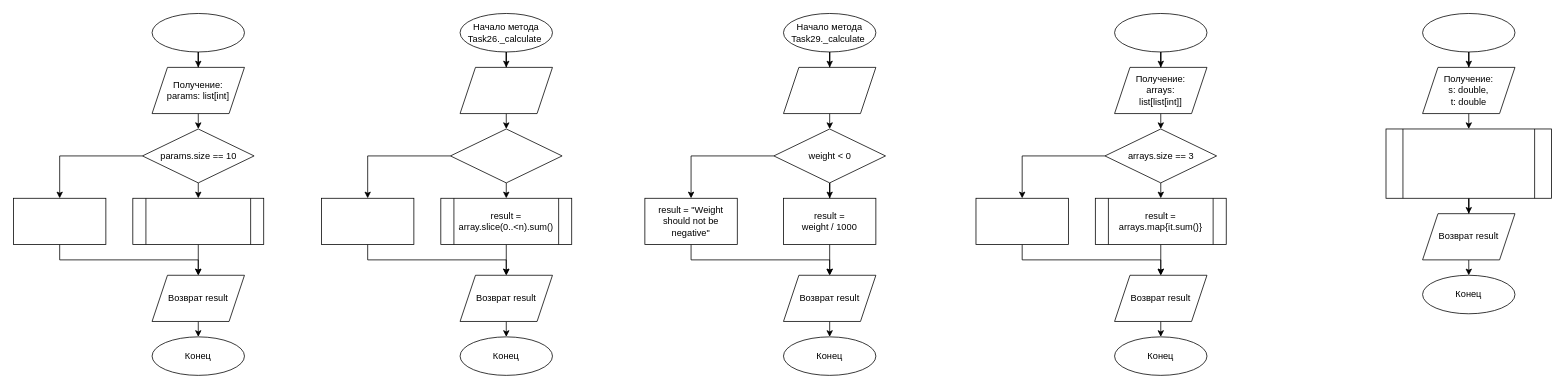
Some shapes in this 1565 by 389 pixel diagram are drawn without their labels. The shapes that lost their labels are listed below. From the top down, each one's centre as x and y in pixels, then its label:
pixel 197 32: Начало метода Task23._calculate
pixel 1160 32: Начало метода Task2._calculate
pixel 1468 32: Начало метода Task5._calculate
pixel 505 90: Получение: n: int, array: list[int]
pixel 829 90: Получение: weight: double
pixel 506 155: n > array.size
pixel 1468 163: result = g(1.0, sin(s)) + 2 * g(t * s, 24.0) - g(5.0, -s)
pixel 59 221: result = "You should type 10 numbers"
pixel 198 221: result = params.map(isSimple)
pixel 367 221: result = "Requested more items than presented"
pixel 1021 221: result = "You should pass 3 arrays"
